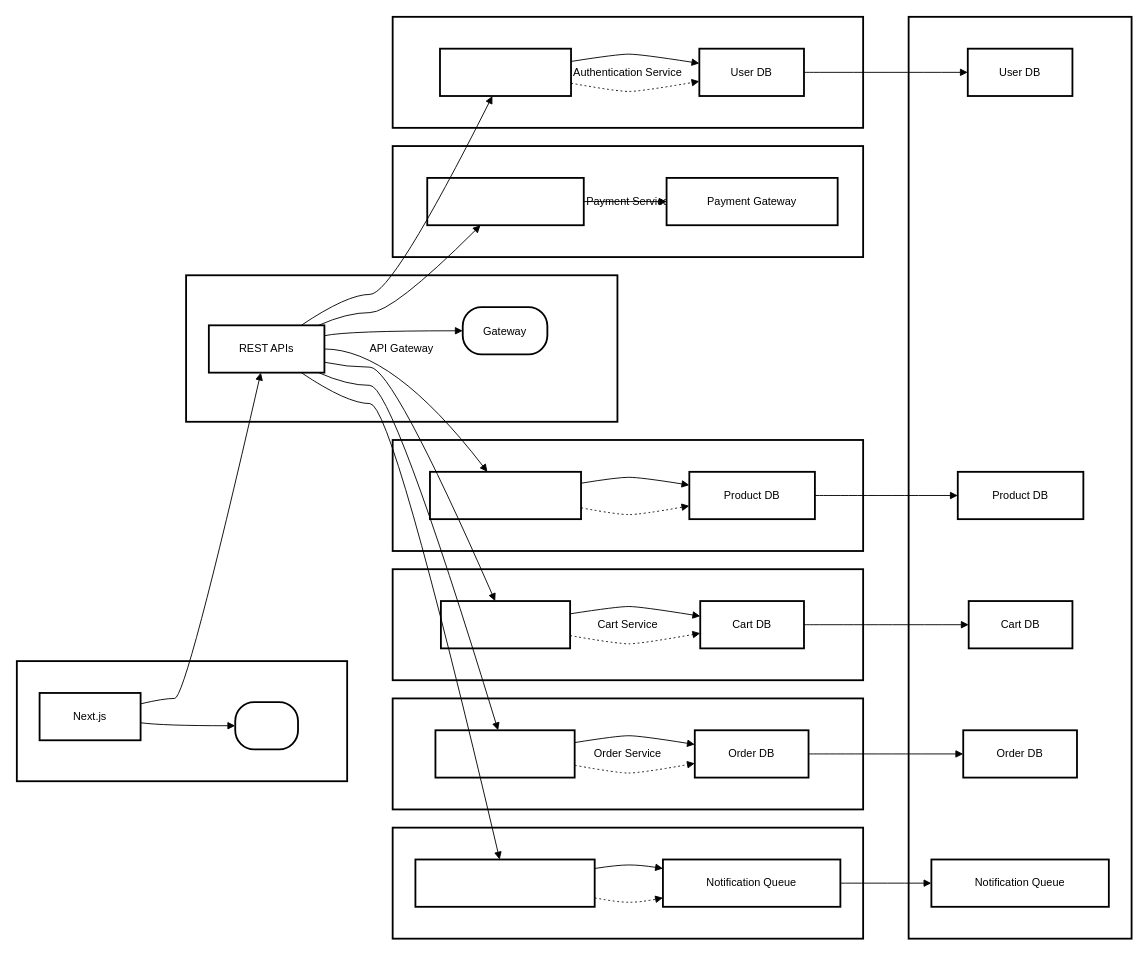
Some shapes in this 1148 by 955 pixel diagram are drawn without their labels. The shapes that lost their labels are listed below. From the top down, each one's box as (x1, y1, x2, y2) in pixels, then its label:
(439, 47, 571, 96): Auth Server
(426, 177, 584, 226): Payment Server
(429, 470, 581, 520): Product Server
(391, 439, 864, 551): Product Service
(440, 600, 571, 649): Cart Server
(15, 660, 348, 782): Frontend
(234, 701, 298, 750): React
(434, 729, 575, 778): Order Server
(414, 858, 595, 907): Notification Server
(391, 826, 864, 939): Notification Service
